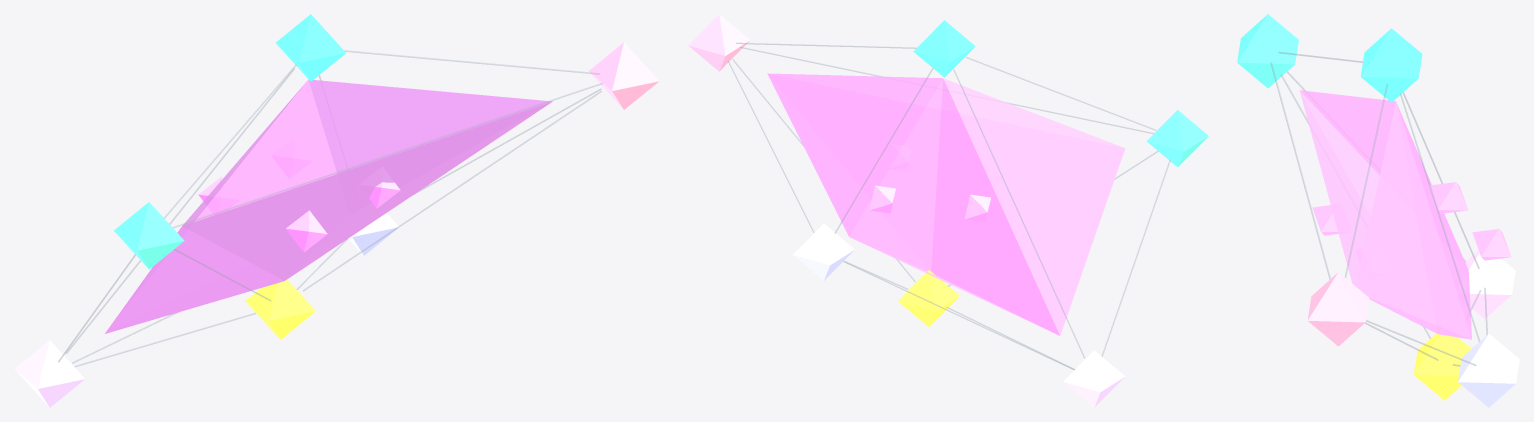
Rendered from synth_em_core_matrix.glb.
3 views of the same model, side by side, from view 1: azimuth 30°, elevation 25°; view 2: azimuth 150°, elevation 25°; view 3: azimuth 270°, elevation 25° (orthographic). The views are drawn at different scales.
Visible parts, largest first — view 1: object 1, node-pitch, node-crest, node-width, node-drive, node-reverb, node-cutoff, object 21, object 19, object 12; view 2: object 1, node-cutoff, node-drive, node-pitch, node-crest, node-width, node-reverb, object 23, object 22, object 11; view 3: object 1, node-pitch, node-drive, node-crest, node-cutoff, node-reverb, node-width, object 23, object 22, object 21, object 10, object 19 (+2 smaller).
Boxes of the visible parts, left/top/right/bottom form: object 1: left=105, top=79, right=552, bottom=333; node-pitch: left=275, top=14, right=345, bottom=81; node-crest: left=114, top=202, right=184, bottom=269; node-width: left=15, top=340, right=84, bottom=407; node-drive: left=589, top=42, right=659, bottom=109; node-reverb: left=245, top=279, right=315, bottom=339; node-cutoff: left=348, top=213, right=398, bottom=255; object 21: left=286, top=210, right=327, bottom=252; object 19: left=173, top=83, right=602, bottom=227; object 12: left=303, top=91, right=601, bottom=291; object 1: left=767, top=73, right=1125, bottom=335; node-cutoff: left=793, top=223, right=854, bottom=280; node-drive: left=688, top=14, right=750, bottom=71; node-pitch: left=913, top=20, right=975, bottom=77; node-crest: left=1146, top=110, right=1208, bottom=167; node-width: left=1063, top=350, right=1125, bottom=407; node-reverb: left=898, top=270, right=959, bottom=326; object 23: left=869, top=185, right=895, bottom=213; object 22: left=964, top=194, right=990, bottom=222; object 11: left=953, top=69, right=1084, bottom=358; object 1: left=1299, top=90, right=1471, bottom=339; node-pitch: left=1360, top=28, right=1422, bottom=102; node-drive: left=1307, top=272, right=1369, bottom=346; node-crest: left=1237, top=14, right=1298, bottom=88; node-cutoff: left=1458, top=333, right=1519, bottom=407; node-reverb: left=1414, top=333, right=1471, bottom=400; node-width: left=1458, top=250, right=1515, bottom=318; object 23: left=1472, top=229, right=1511, bottom=260; object 22: left=1429, top=182, right=1468, bottom=213; object 21: left=1312, top=205, right=1344, bottom=235; object 10: left=1400, top=93, right=1479, bottom=341; object 19: left=1270, top=62, right=1330, bottom=279.
Size of what is drawn, in the model's own units: 4.8 by 3.06 by 1.92.
